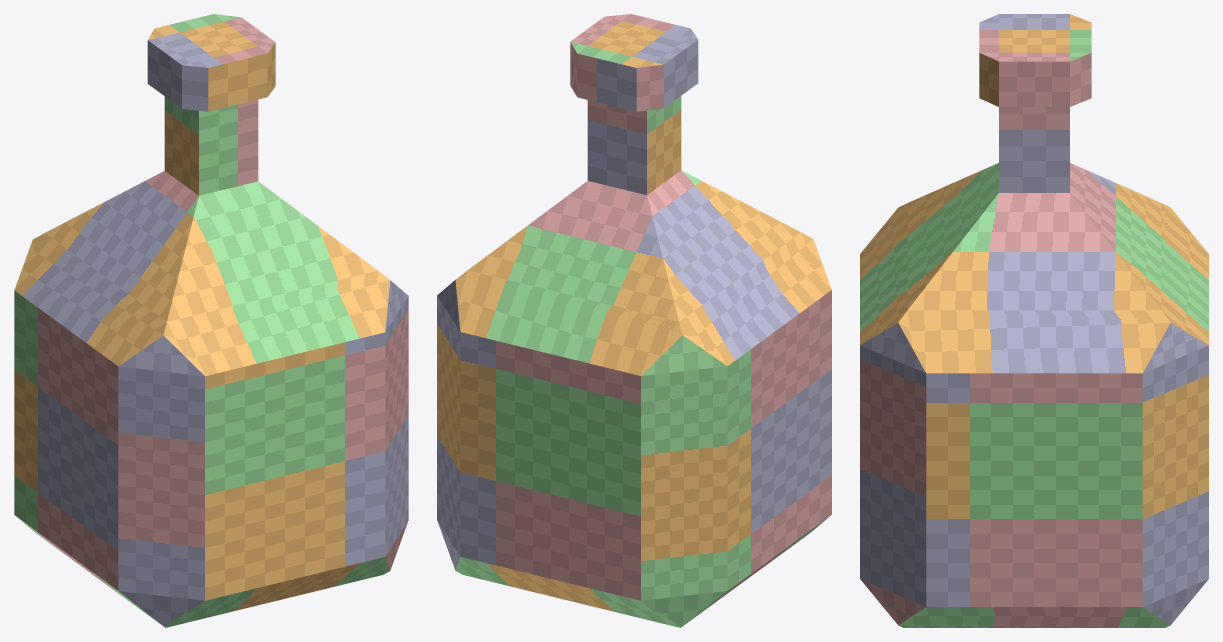
File: basic_potion.glb
The picture shows the model from 3 angles, left to right: view 1: azimuth 30°, elevation 25°; view 2: azimuth 150°, elevation 25°; view 3: azimuth 270°, elevation 25°; orthographic projection. The views are drawn at different scales.
Visible parts, largest first — view 1: Cube; view 2: Cube; view 3: Cube.
Part boxes in pixels (x1=…): Cube: x1=14, y1=14, x2=408, y2=627; Cube: x1=437, y1=14, x2=831, y2=627; Cube: x1=860, y1=14, x2=1208, y2=627.
Size of the model in its own units: 2 by 3.39 by 2.
1 material, 1 textured.
